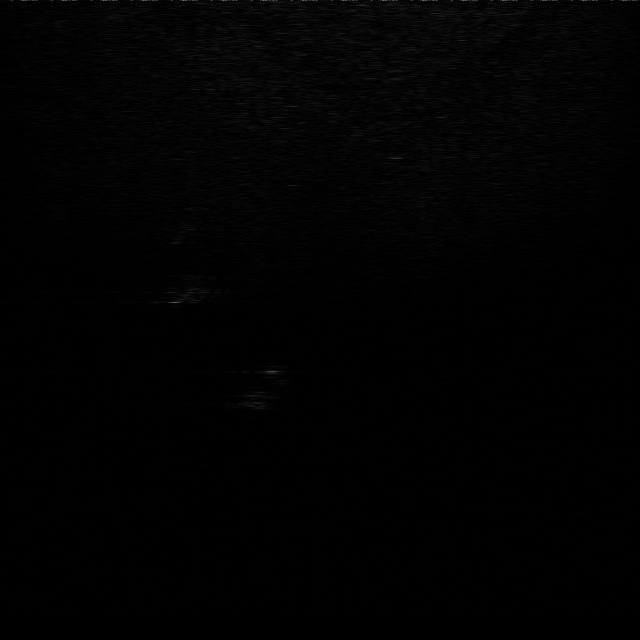ball: (159, 216, 201, 246)
circle cage: (156, 269, 216, 306)
tyre: (230, 362, 298, 414)
